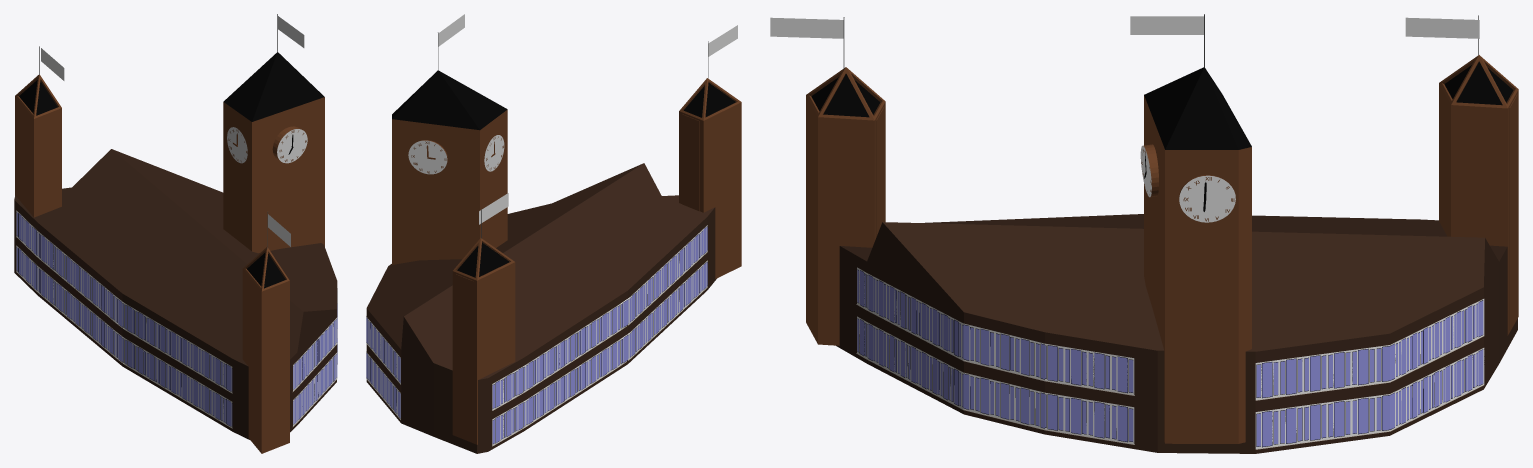
The model's file is WesterianHousesOfParliament.fbx.
3 views of the same model, side by side, from view 1: azimuth 30°, elevation 25°; view 2: azimuth 150°, elevation 25°; view 3: azimuth 270°, elevation 25° (orthographic). The views are drawn at different scales.
Visible parts, largest first — view 1: WestrianParliamentBuilding, WesterianParliamentTowers, WesterianFlag, WesterianFlag.001; view 2: WestrianParliamentBuilding, WesterianParliamentTowers, WesterianFlag.002, WesterianFlag.001, WesterianFlag; view 3: WestrianParliamentBuilding, WesterianParliamentTowers, WesterianFlag.001, WesterianFlag.002, WesterianFlag.
Part boxes in pixels (<box>): WestrianParliamentBuilding: <box>14,149,337,439</box>; WesterianParliamentTowers: <box>15,14,324,453</box>; WesterianFlag: <box>278,16,304,47</box>; WesterianFlag.001: <box>41,48,64,80</box>; WestrianParliamentBuilding: <box>366,163,716,453</box>; WesterianParliamentTowers: <box>392,32,741,444</box>; WesterianFlag.002: <box>708,25,737,56</box>; WesterianFlag.001: <box>479,193,508,224</box>; WesterianFlag: <box>438,14,464,46</box>; WestrianParliamentBuilding: <box>836,214,1517,453</box>; WesterianParliamentTowers: <box>806,14,1518,443</box>; WesterianFlag.001: <box>1405,17,1479,38</box>; WesterianFlag.002: <box>770,17,843,38</box>; WesterianFlag: <box>1130,16,1203,34</box>.
Size of the model in its own units: 5942 by 8192 by 13275.
